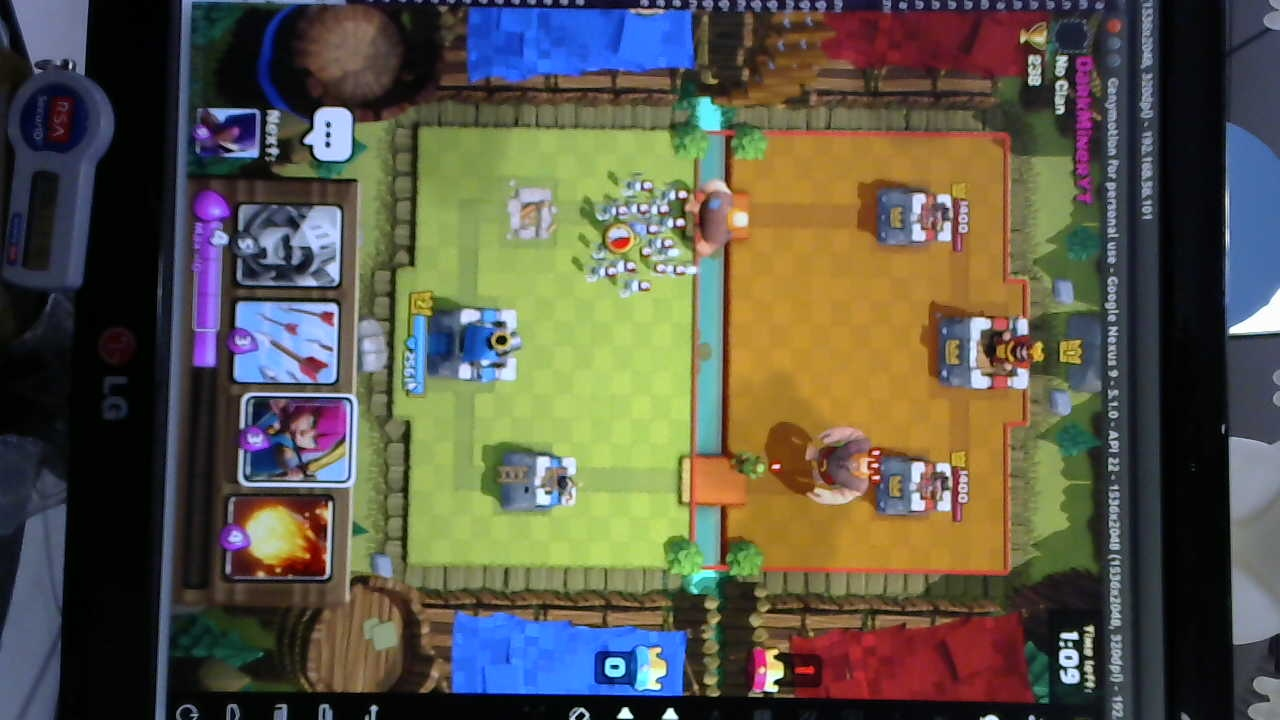arena: (492, 447, 578, 514)
darena: (501, 182, 558, 248)
earena: (873, 455, 958, 519), (874, 187, 957, 249)
eking: (932, 314, 1042, 390)
giant: (806, 425, 878, 505), (682, 180, 749, 259)
king: (427, 305, 524, 385)
skeletonarmy: (592, 174, 695, 300)
speargoblin: (731, 449, 774, 482)
